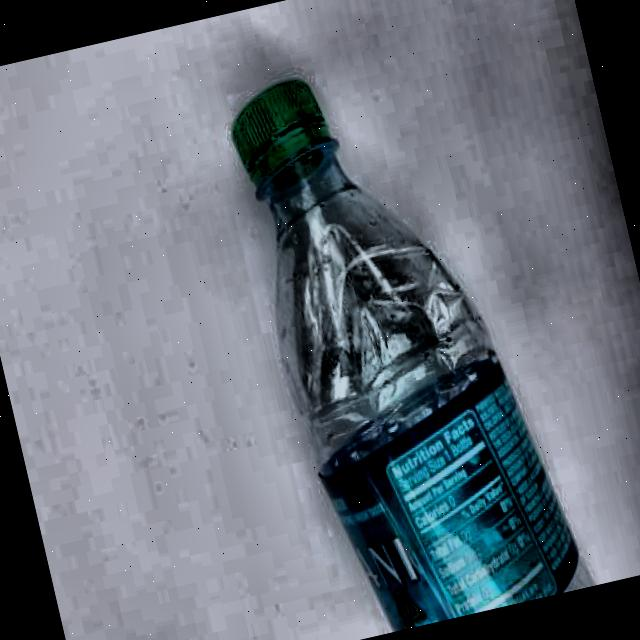plastic: (212, 36, 591, 640)
